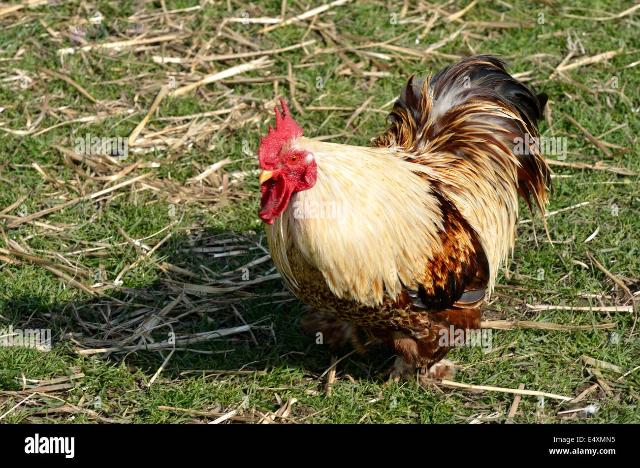Chicken: (255, 54, 557, 381)
